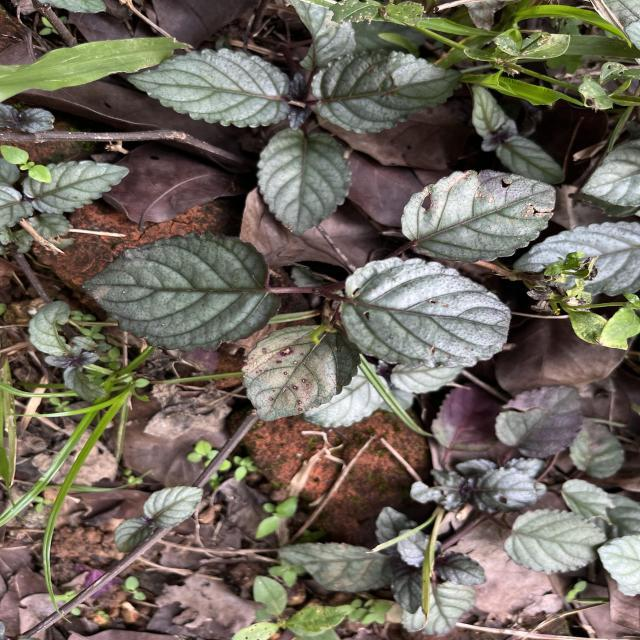Hemigraphis colorata: (80, 229, 286, 357), (332, 256, 514, 373), (396, 168, 558, 266), (308, 46, 469, 138), (126, 46, 300, 130), (238, 324, 364, 424), (252, 127, 356, 239), (20, 158, 132, 216)
